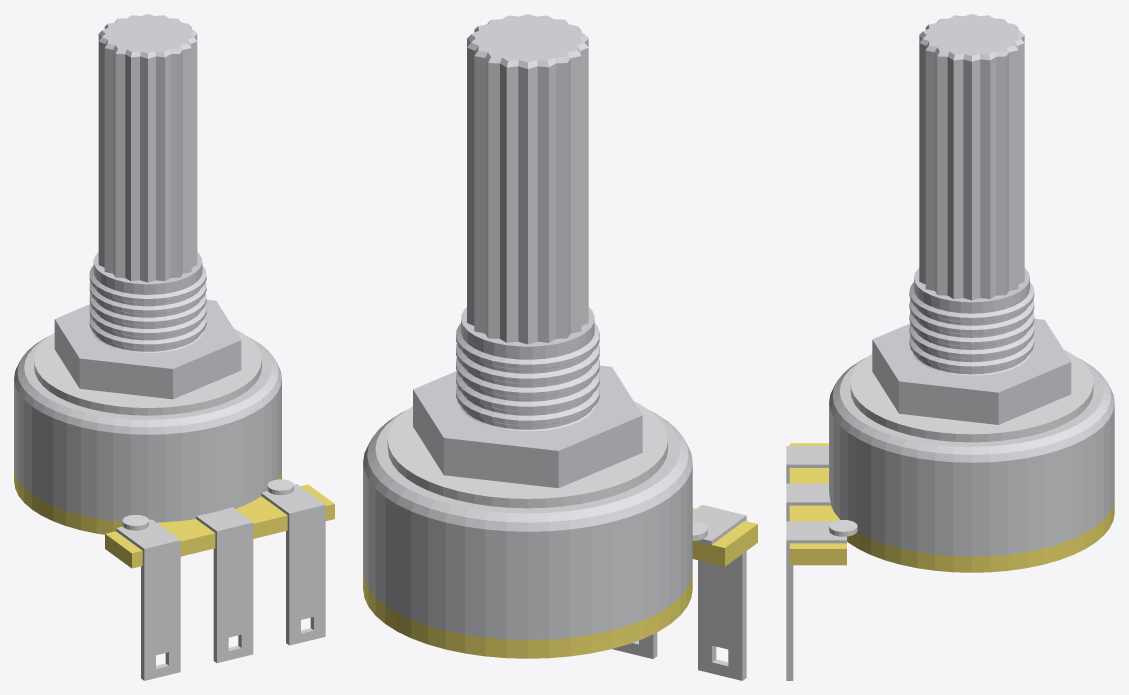
File: Potenciometro_Rotativo.glb
The picture shows the model from 3 angles, left to right: view 1: azimuth 30°, elevation 25°; view 2: azimuth 150°, elevation 25°; view 3: azimuth 270°, elevation 25°; orthographic projection. The views are drawn at different scales.
Parts seen in each view (by area): view 1: Carcasa_Metalica, Eje_Estriado, Tuerca_Hexagonal, Casquillo_Roscado, Arandela, Terminal_1, Terminal_3, Terminal_2, Base_Fenolica; view 2: Carcasa_Metalica, Eje_Estriado, Tuerca_Hexagonal, Casquillo_Roscado, Arandela, Base_Fenolica, Terminal_1, Terminal_2; view 3: Carcasa_Metalica, Eje_Estriado, Tuerca_Hexagonal, Casquillo_Roscado, Base_Fenolica, Arandela, Terminal_3, Terminal_2, Terminal_1.
Part boxes in pixels (x1,y1,x2,y2): Carcasa_Metalica: (14, 336, 281, 522); Eje_Estriado: (98, 14, 197, 282); Tuerca_Hexagonal: (54, 299, 241, 399); Casquillo_Roscado: (89, 252, 206, 352); Arandela: (34, 328, 261, 415); Terminal_1: (116, 519, 180, 680); Terminal_3: (261, 484, 325, 645); Terminal_2: (196, 507, 253, 663); Base_Fenolica: (14, 467, 334, 568); Carcasa_Metalica: (363, 410, 692, 639); Eje_Estriado: (467, 14, 588, 344); Tuerca_Hexagonal: (413, 365, 642, 488); Casquillo_Roscado: (456, 307, 599, 431); Arandela: (387, 401, 667, 508); Base_Fenolica: (363, 508, 757, 658); Terminal_1: (692, 504, 746, 680); Terminal_2: (612, 632, 657, 658); Carcasa_Metalica: (829, 357, 1114, 556); Eje_Estriado: (919, 14, 1024, 300); Tuerca_Hexagonal: (872, 318, 1071, 424); Casquillo_Roscado: (909, 268, 1034, 375); Base_Fenolica: (789, 443, 1114, 572); Arandela: (850, 350, 1093, 442); Terminal_3: (786, 521, 846, 680); Terminal_2: (786, 483, 830, 521); Terminal_1: (786, 446, 828, 483).
Size of the model in its own units: 0.016 by 0.037 by 0.0184.
